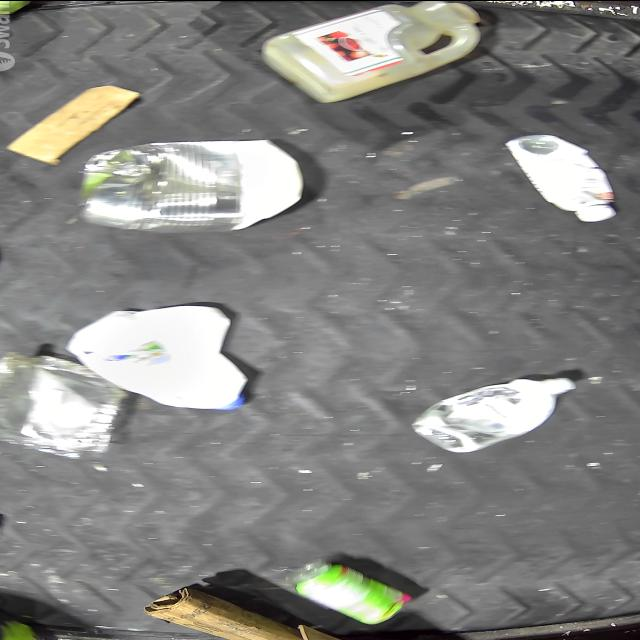can: (79, 141, 242, 231)
milk_jug: (264, 0, 484, 101), (66, 304, 248, 411)
